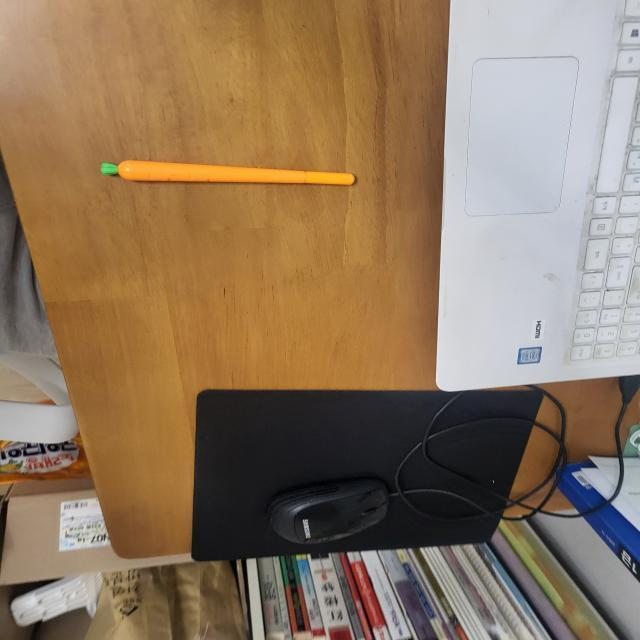carrot: (116, 156, 357, 190)
